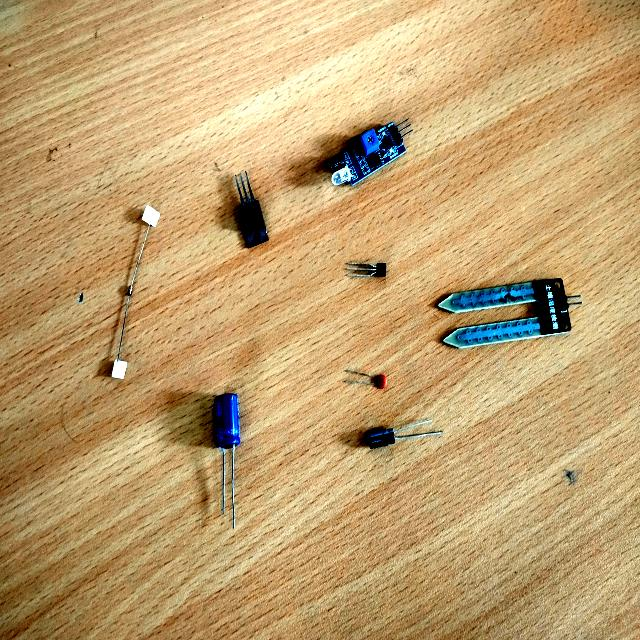capacitor: (212, 393, 240, 449), (364, 426, 395, 449), (371, 374, 386, 389)
